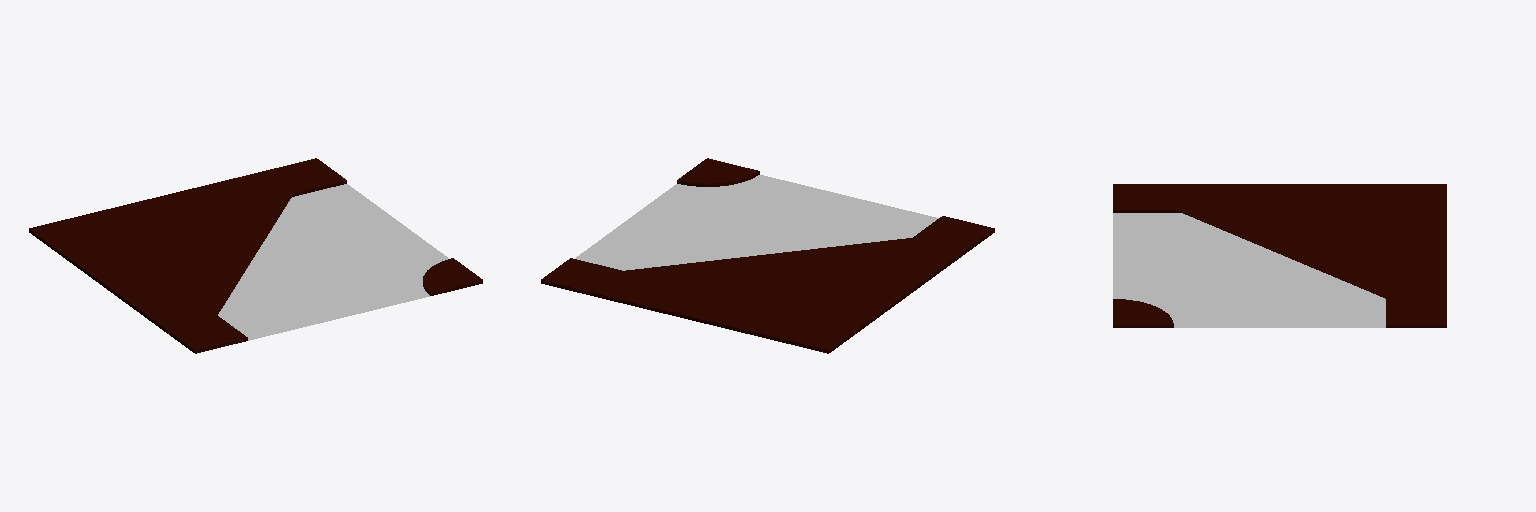
The model's file is corner_new 1.obj.
3 renders of one model, left to right at view 1: azimuth 30°, elevation 25°; view 2: azimuth 150°, elevation 25°; view 3: azimuth 270°, elevation 25°, orthographic.
Parts seen in each view (by area): view 1: corner_low; view 2: corner_low; view 3: corner_low.
Part boxes in pixels (x1,y1,x2,y2): corner_low: (29, 158, 482, 353); corner_low: (541, 158, 994, 353); corner_low: (1113, 184, 1446, 327).
Size of the model in its own units: 2 by 0.0229 by 2.